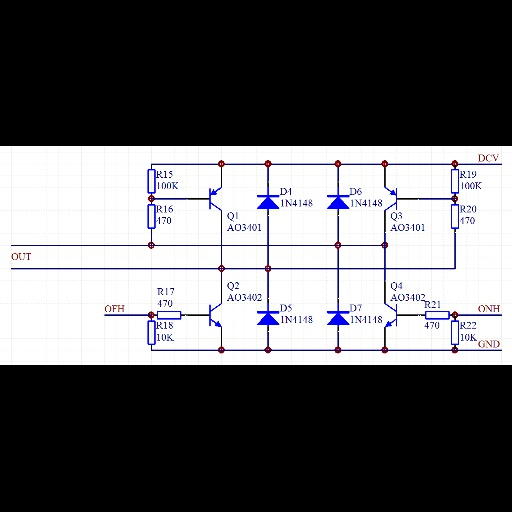firstdiode: (253, 191, 280, 216), (321, 308, 350, 330), (321, 191, 350, 212), (251, 308, 280, 328)
firstresistance: (155, 308, 185, 321), (143, 166, 156, 195), (144, 202, 157, 231), (144, 318, 156, 347), (423, 309, 451, 321), (449, 203, 460, 232), (449, 168, 460, 195), (450, 319, 460, 346)
npn: (206, 299, 226, 332), (381, 301, 401, 334)
pnp: (381, 180, 405, 212), (203, 182, 225, 214)
